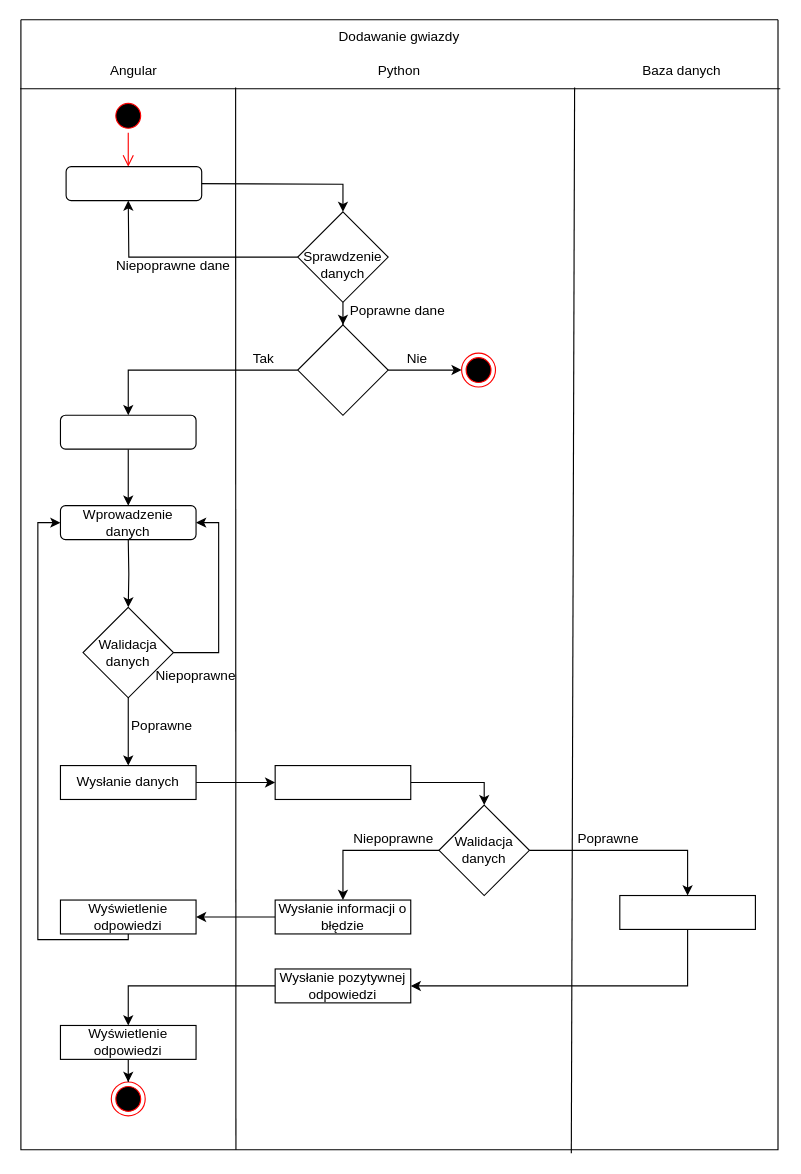
The diagram is 801 pixels wide and 1174 high, and some of its shapes have lost their labels. The shapes that lost their labels are listed below. From the top down, each one's centre as x and y in pixels, then its label:
At (133,183): "Logowanie".
At (342,369): "Posiadanie uprawnień".
At (127,431): "Przejście do komponentu".
At (342,781): "Odbiór danych".
At (687,911): "Zapis danych".
